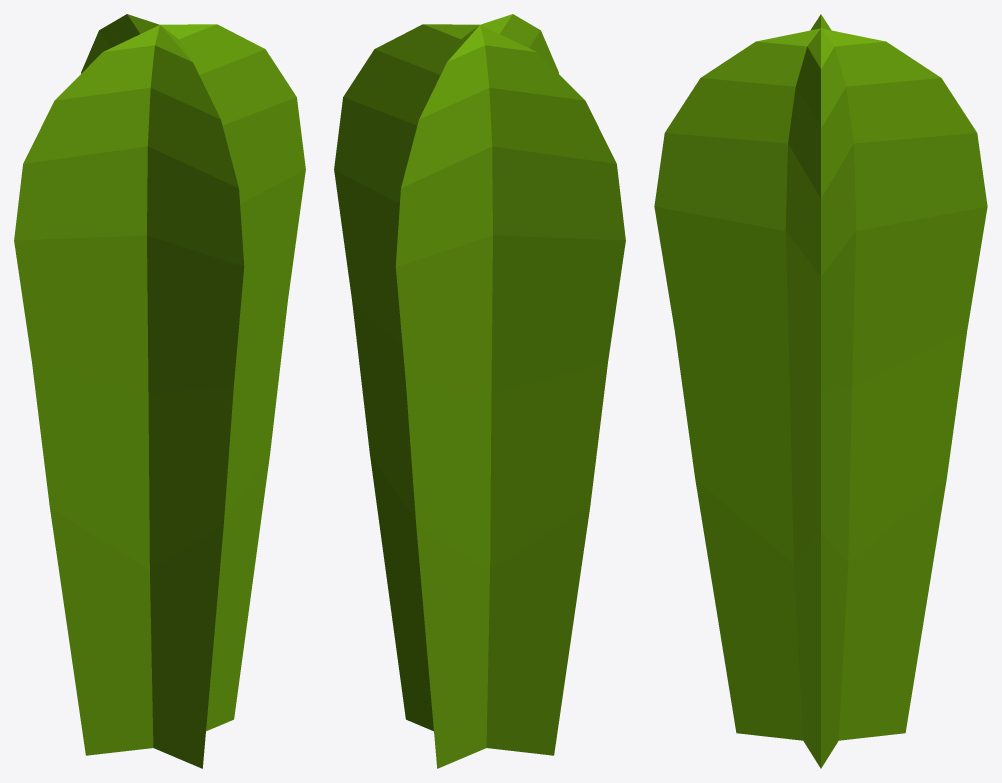
Rendered from Cactus_32_A.fbx.
3 views of the same model, side by side, from view 1: azimuth 30°, elevation 25°; view 2: azimuth 150°, elevation 25°; view 3: azimuth 270°, elevation 25° (orthographic).
Parts seen in each view (by area): view 1: Cactus_32_A; view 2: Cactus_32_A; view 3: Cactus_32_A.
Boxes of the visible parts, left/top/right/bottom form: Cactus_32_A: left=14, top=14, right=305, bottom=768; Cactus_32_A: left=334, top=14, right=625, bottom=768; Cactus_32_A: left=654, top=14, right=987, bottom=768.
Bounding box in the file's own units: 64.27 × 150 × 64.27.
